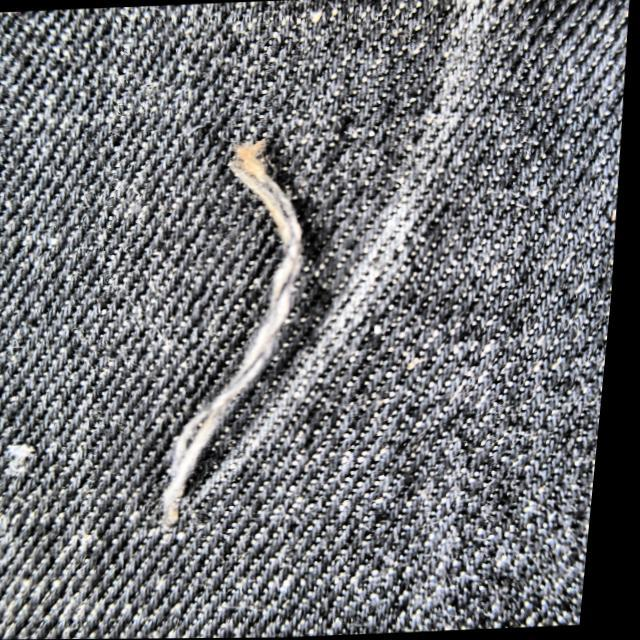Stain: (185, 0, 498, 519)
Thread: (159, 134, 306, 536)
